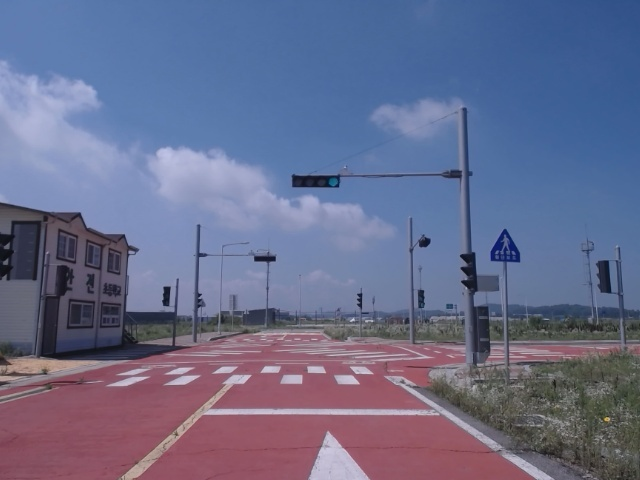straight_green_4: (293, 176, 341, 187)
